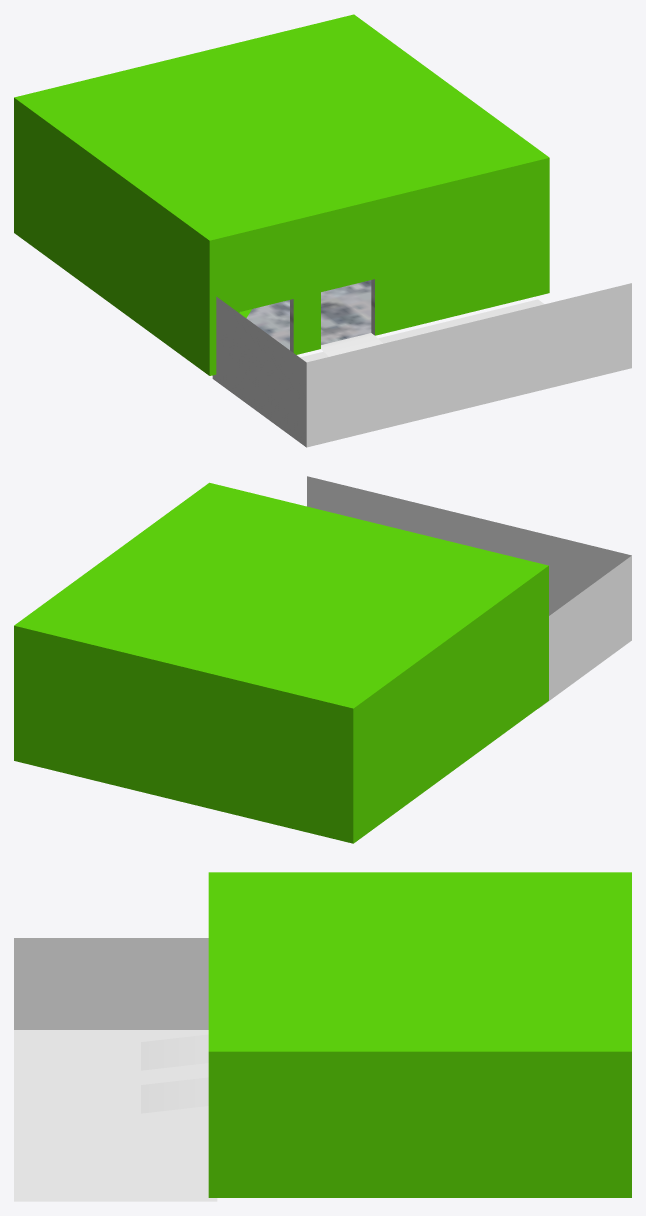
File: warehouse_walls.fbx
The picture shows the model from 3 angles, top to bottom: view 1: azimuth 30°, elevation 25°; view 2: azimuth 150°, elevation 25°; view 3: azimuth 270°, elevation 25°; orthographic projection. The views are drawn at different scales.
Visible parts, largest first — view 1: warehouse_walls; view 2: warehouse_walls; view 3: warehouse_walls.
Part boxes in pixels (x1,y1,x2,y2): warehouse_walls: [14, 14, 631, 447]; warehouse_walls: [14, 476, 631, 843]; warehouse_walls: [14, 872, 631, 1201].
Bounding box in the file's own units: 20.06 × 8.04 × 29.2.
